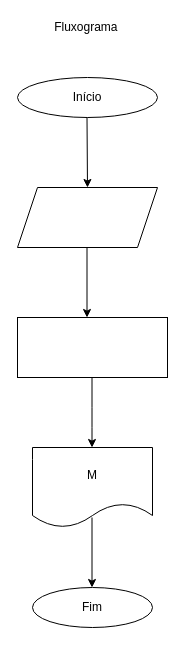
The diagram is 185 pixels wide and 645 high, and some of its shapes have lost their labels. Here are the shapes that lost their labels. From the top down, the centre of each, then its label:
At point (87, 217): "N1, N2, N3".
At point (92, 347): "M = (N1 + N2 + N3) / 3".
